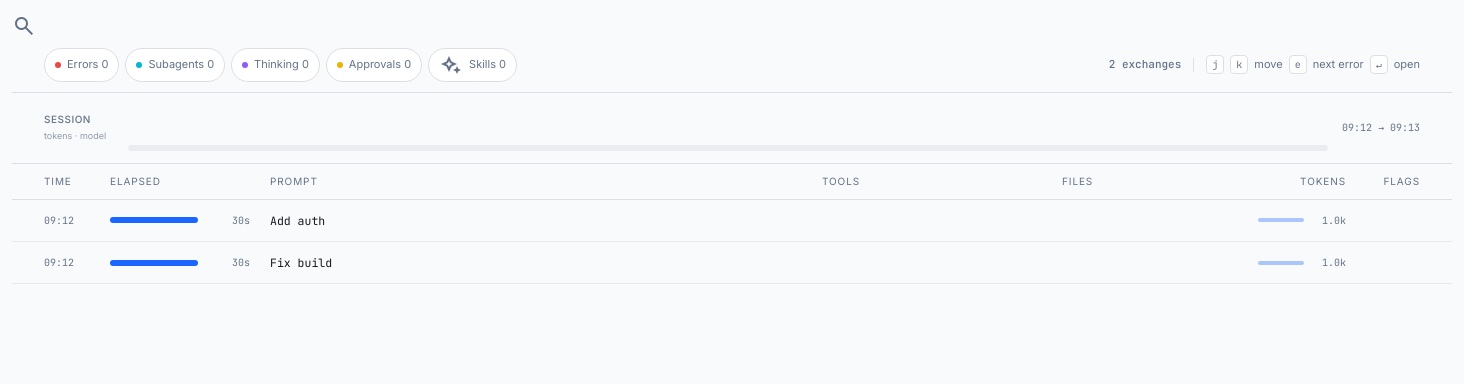
TimelineTab › clears filters and search via the empty-state reset link
Note: A query that matches nothing surfaces the empty state + reset link.
Click the button named "Search session". click: (24, 25)
box: [12,12,36,38]
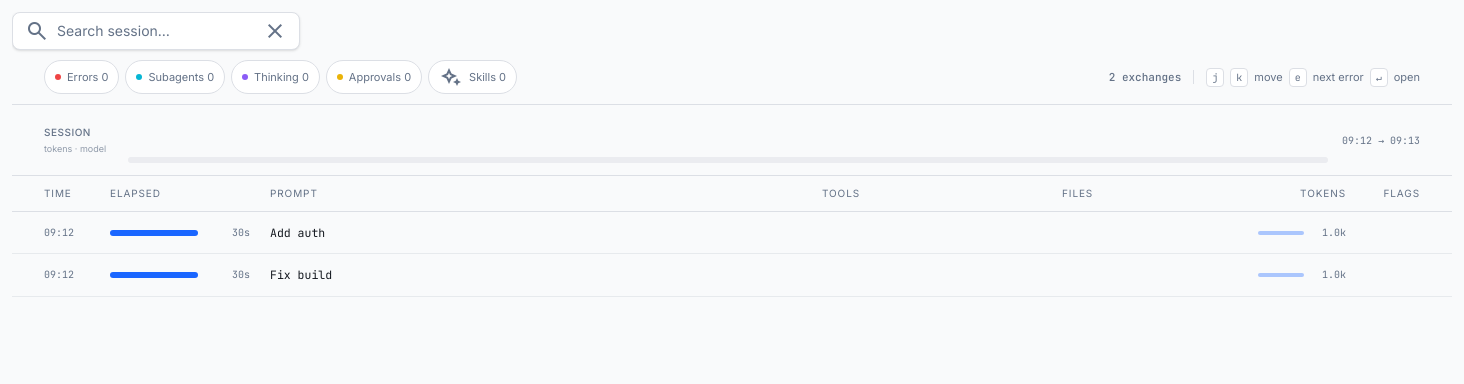
Type "zzz-no-match" into the field labelled "Search session". click: (156, 31)
box: [57,21,255,41]
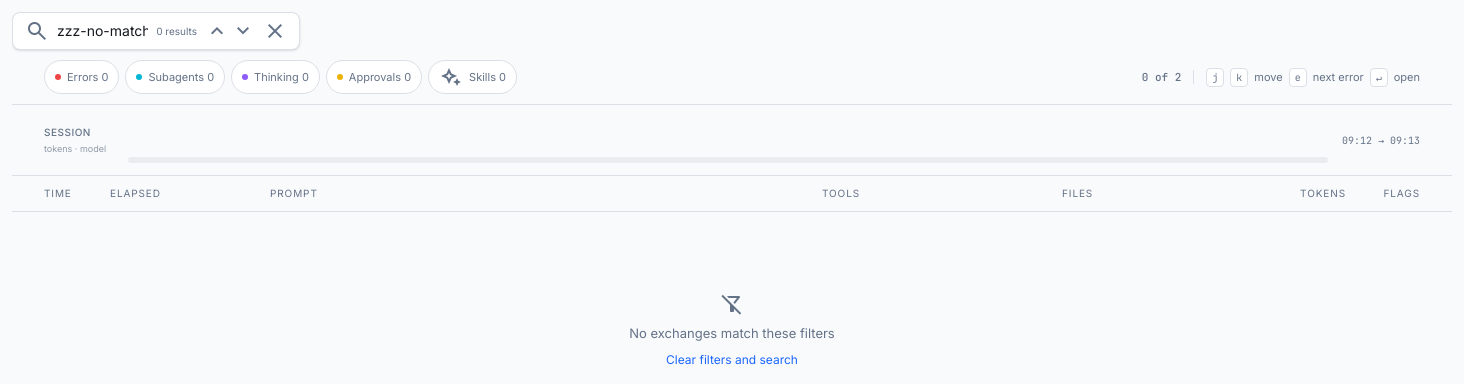
Expected: the element with test id "track-empty-state" is shown, [629,290,835,368]
Click the button "Clear filters and search". click: (732, 360)
box: [666,352,798,368]
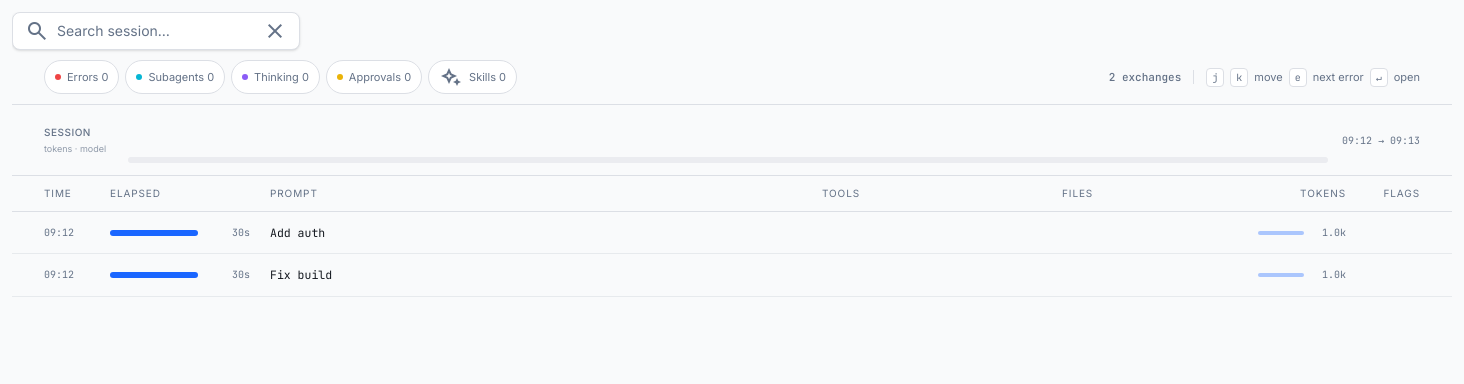
Expected: the field labelled "Search session" is empty, [57,21,255,41]
Expected: the text "2 exchanges" is shown, [1109,69,1181,85]
